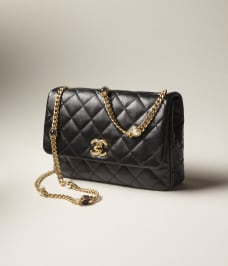channel: (36, 82, 186, 198), (97, 87, 122, 135), (91, 133, 109, 156)
